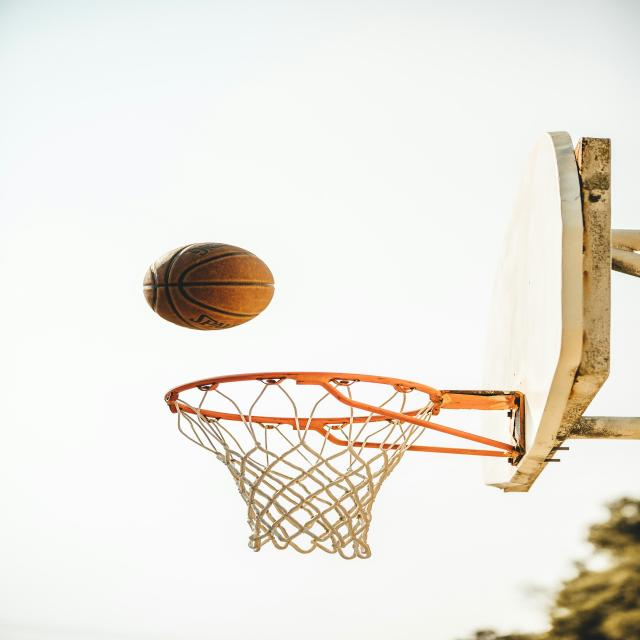Basketball: (143, 242, 275, 330)
